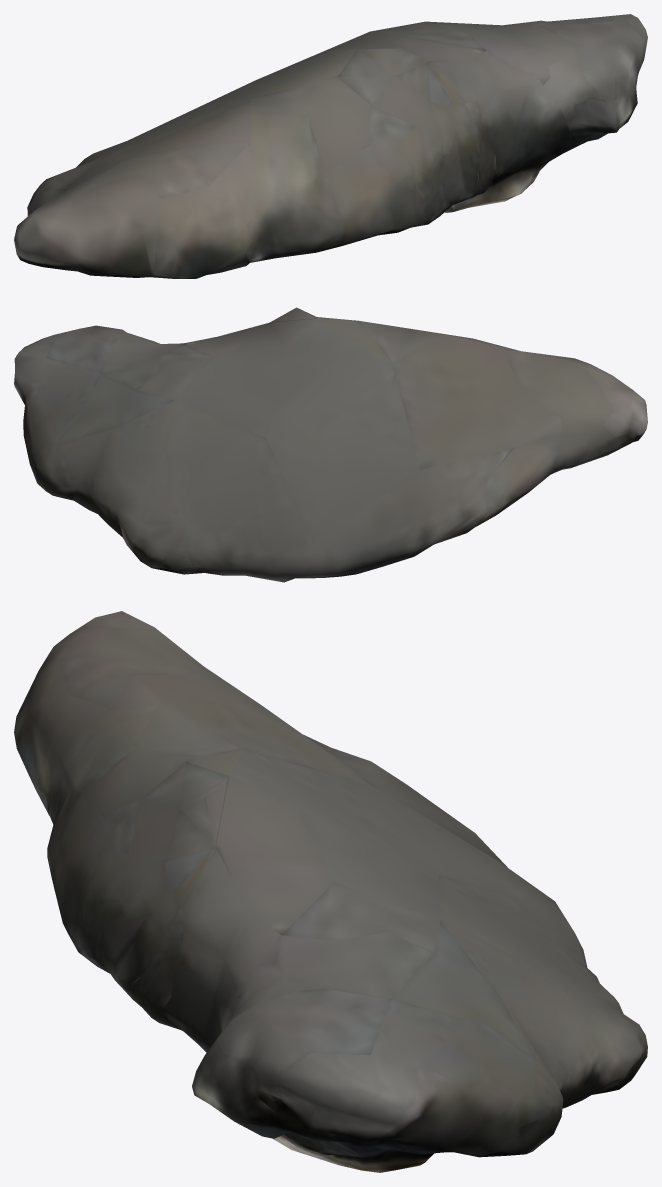
Rendered from hall.glb.
3 views of the same model, one above another, from view 1: azimuth 30°, elevation 25°; view 2: azimuth 150°, elevation 25°; view 3: azimuth 270°, elevation 25° (orthographic). The views are drawn at different scales.
Bounding box in the file's own units: 0.7098 × 0.2143 × 0.4348.
Materials: 1 (1 with a texture image).
